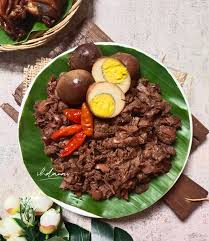Gudeg: (36, 51, 182, 203)
